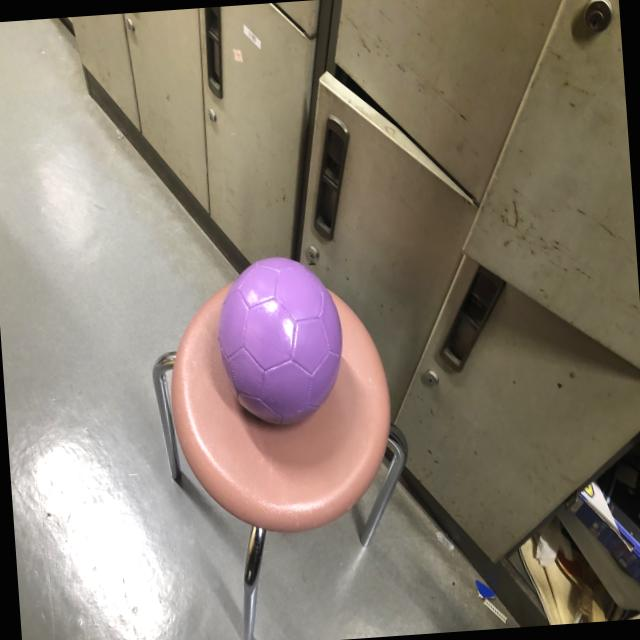purple_ball: (211, 251, 349, 431)
